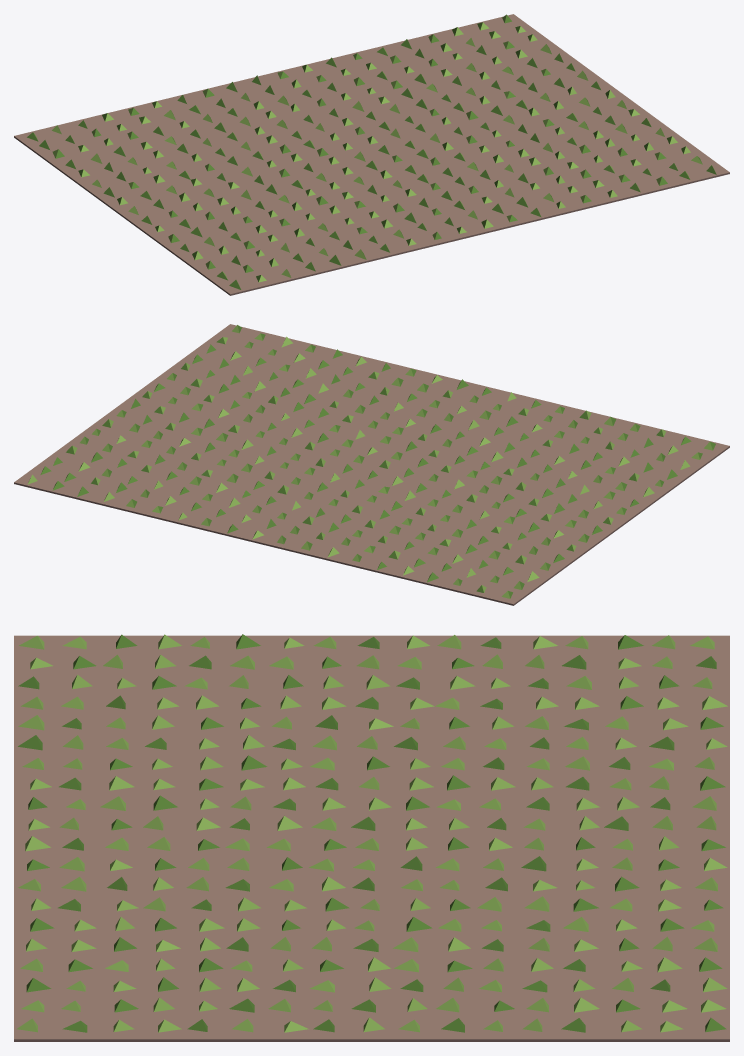
Rendered from FMS_Mach_Demo_Seedlings.fbx.
3 renders of one model, top to bottom at view 1: azimuth 30°, elevation 25°; view 2: azimuth 150°, elevation 25°; view 3: azimuth 270°, elevation 25°, orthographic. The views are drawn at different scales.
Parts seen in each view (by area): view 1: Seedlings; view 2: Seedlings; view 3: Seedlings.
Boxes of the visible parts, x1,y1,x2,y2 form: Seedlings: [14, 14, 729, 295]; Seedlings: [14, 324, 729, 605]; Seedlings: [14, 634, 729, 1041].
Bounding box in the file's own units: 16 × 0.2696 × 12.
